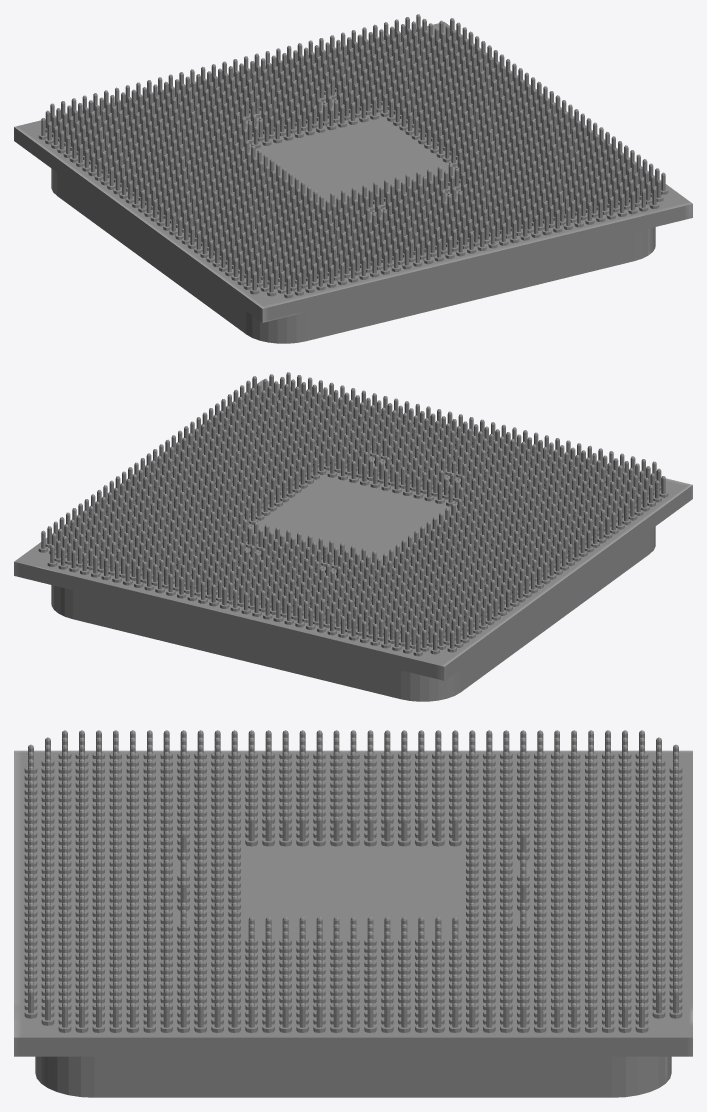
Rendered from cpu.fbx.
The picture shows the model from 3 angles, top to bottom: view 1: azimuth 30°, elevation 25°; view 2: azimuth 150°, elevation 25°; view 3: azimuth 270°, elevation 25°; orthographic projection. The views are drawn at different scales.
Visible parts, largest first — view 1: AMD Ryzen CPU; view 2: AMD Ryzen CPU; view 3: AMD Ryzen CPU.
Boxes of the visible parts, x1=… form: AMD Ryzen CPU: x1=14, y1=14, x2=692, y2=343; AMD Ryzen CPU: x1=14, y1=372, x2=692, y2=701; AMD Ryzen CPU: x1=14, y1=730, x2=692, y2=1097.
Size of the model in its own units: 4000 by 627 by 4000.
1 material, 1 textured.
